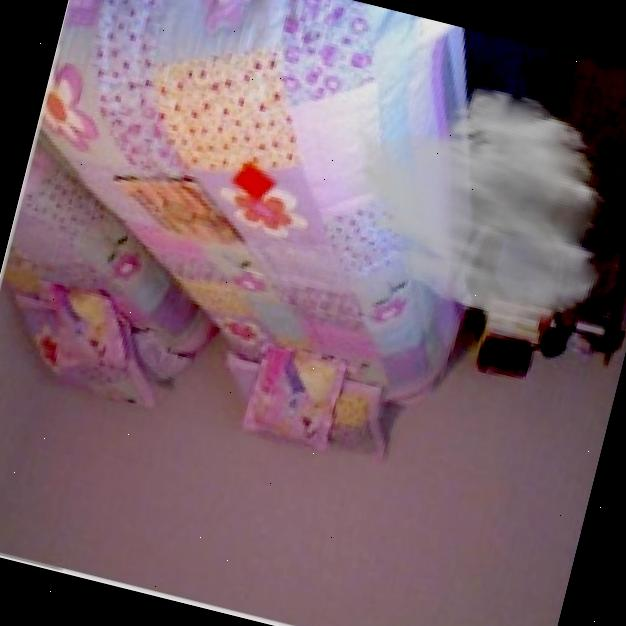smoke: (312, 53, 626, 349)
